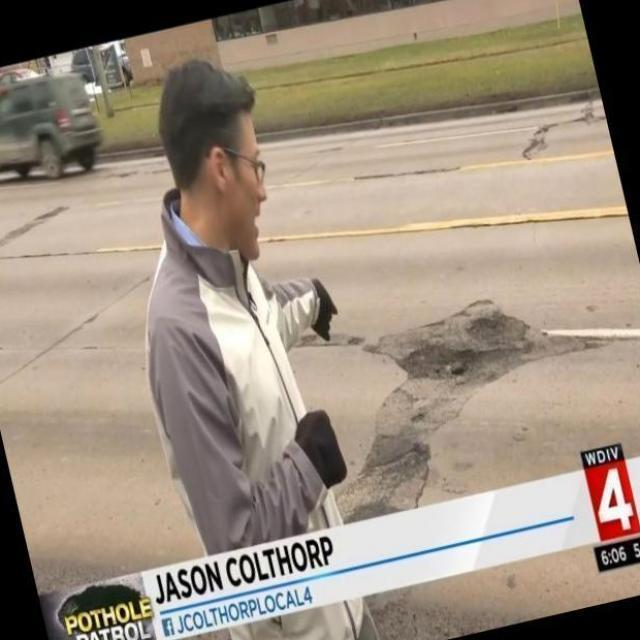Pathole: (370, 296, 591, 504)
